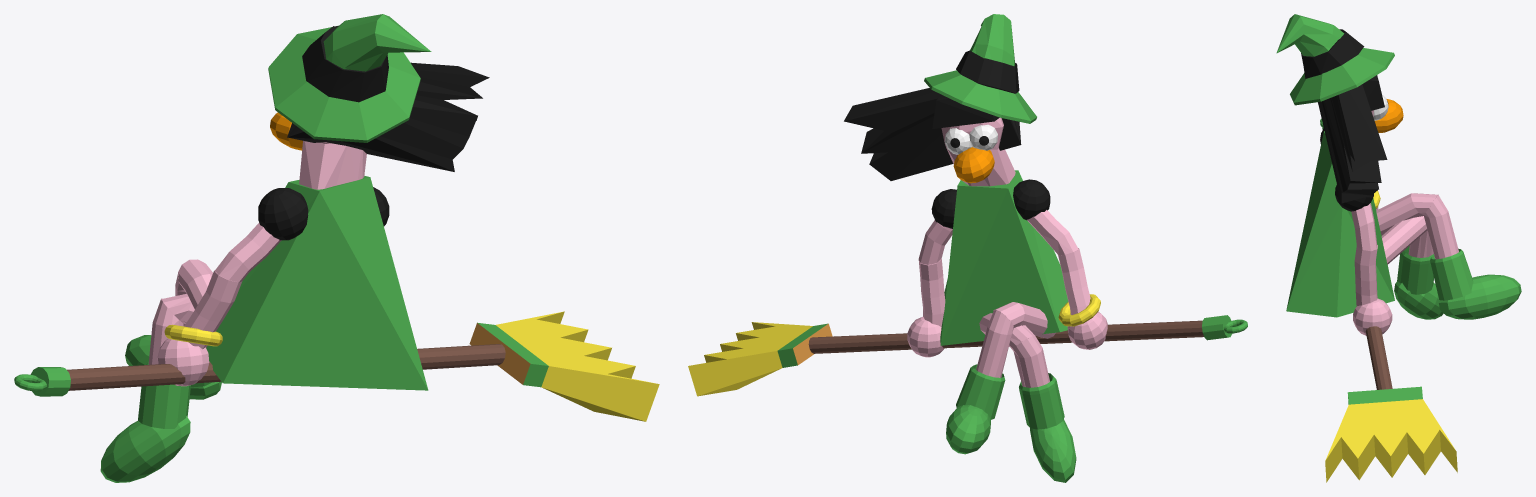
The model's file is Bruxa.obj.
3 views of the same model, side by side, from view 1: azimuth 30°, elevation 25°; view 2: azimuth 150°, elevation 25°; view 3: azimuth 270°, elevation 25° (orthographic). The views are drawn at different scales.
Parts seen in each view (by area): view 1: group240340077, group801353689, group1108634640, group522835058, group482772472, group1255168626, group1019370156, group104699510, group811559775, group13987301, group252787808, group581253501 (+6 smaller); view 2: group240340077, group522835058, group1108634640, group801353689, group482772472, group1255168626, group762911156, group13987301, group1019370156, group529413551, group424486395, group104699510 (+15 smaller); view 3: group240340077, group1108634640, group522835058, group801353689, group762911156, group424486395, group529413551, group1019370156, group469911954, group13987301, group134991641, group982881240 (+8 smaller).
Boxes of the visible parts, box(x1,y1,x2,y2) form: group240340077: box(206, 175, 428, 390); group801353689: box(268, 14, 431, 142); group1108634640: box(469, 311, 659, 421); group522835058: box(287, 62, 489, 171); group482772472: box(67, 344, 505, 390); group1255168626: box(100, 416, 190, 482); group1019370156: box(302, 26, 388, 102); group104699510: box(299, 140, 366, 189); group811559775: box(258, 188, 308, 240); group13987301: box(138, 362, 190, 428); group252787808: box(184, 270, 242, 349); group581253501: box(215, 222, 281, 282); group240340077: box(940, 170, 1068, 345); group522835058: box(844, 88, 1021, 180); group1108634640: box(688, 322, 832, 396); group801353689: box(924, 14, 1036, 123); group482772472: box(808, 320, 1203, 353); group1255168626: box(1030, 419, 1076, 482); group762911156: box(946, 405, 990, 454); group13987301: box(1019, 373, 1064, 429); group1019370156: box(956, 50, 1019, 93); group529413551: box(976, 310, 1013, 377); group424486395: box(956, 364, 1005, 419); group104699510: box(941, 117, 1015, 186); group240340077: box(1286, 131, 1394, 317); group1108634640: box(1325, 386, 1457, 482); group522835058: box(1318, 84, 1387, 203); group801353689: box(1276, 14, 1394, 105); group762911156: box(1439, 274, 1521, 319); group424486395: box(1430, 248, 1473, 300); group529413551: box(1423, 195, 1458, 259); group1019370156: box(1301, 29, 1364, 78); group469911954: box(1376, 193, 1438, 235); group13987301: box(1397, 246, 1433, 294); group134991641: box(1354, 245, 1377, 306); group982881240: box(1381, 216, 1427, 264).
Size of the model in its own units: 1.74 by 1.28 by 0.7765.
